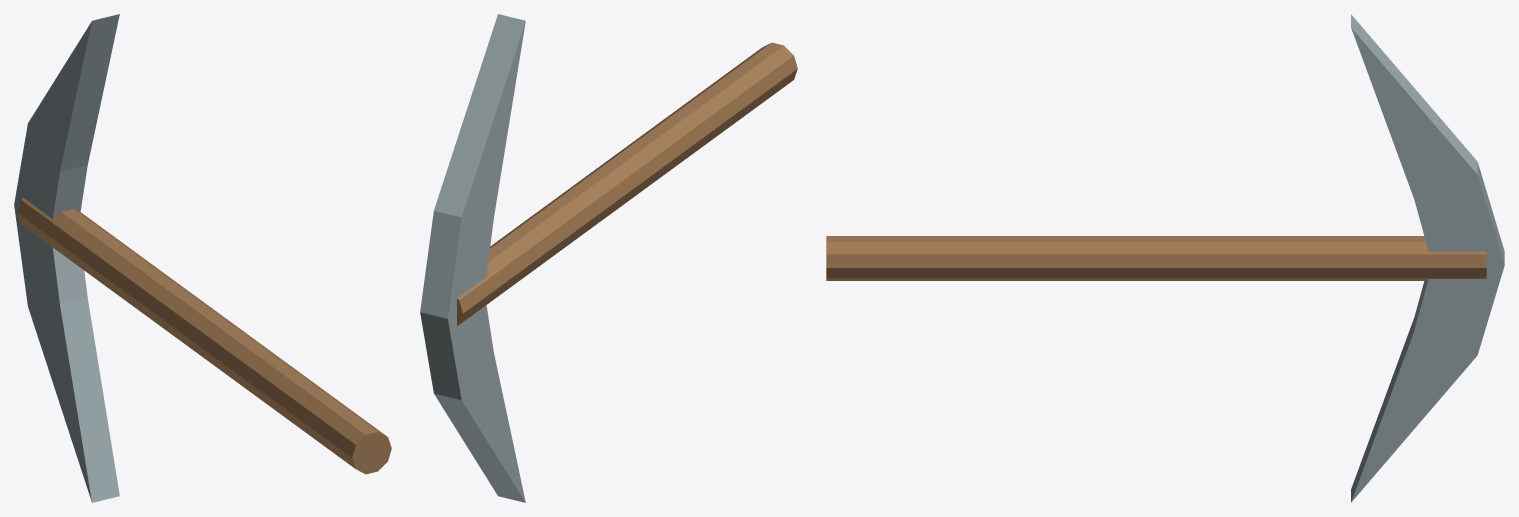
The model's file is Tool_Pickaxe.fbx.
3 views of the same model, side by side, from view 1: azimuth 30°, elevation 25°; view 2: azimuth 150°, elevation 25°; view 3: azimuth 270°, elevation 25° (orthographic).
Visible parts, largest first — view 1: Tool_Pickaxe; view 2: Tool_Pickaxe; view 3: Tool_Pickaxe.
Part boxes in pixels (<box>): Tool_Pickaxe: <box>14,14,391,502</box>; Tool_Pickaxe: <box>420,14,797,502</box>; Tool_Pickaxe: <box>826,14,1504,502</box>.
Bounding box in the file's own units: 0.05 × 0.58 × 0.75.
